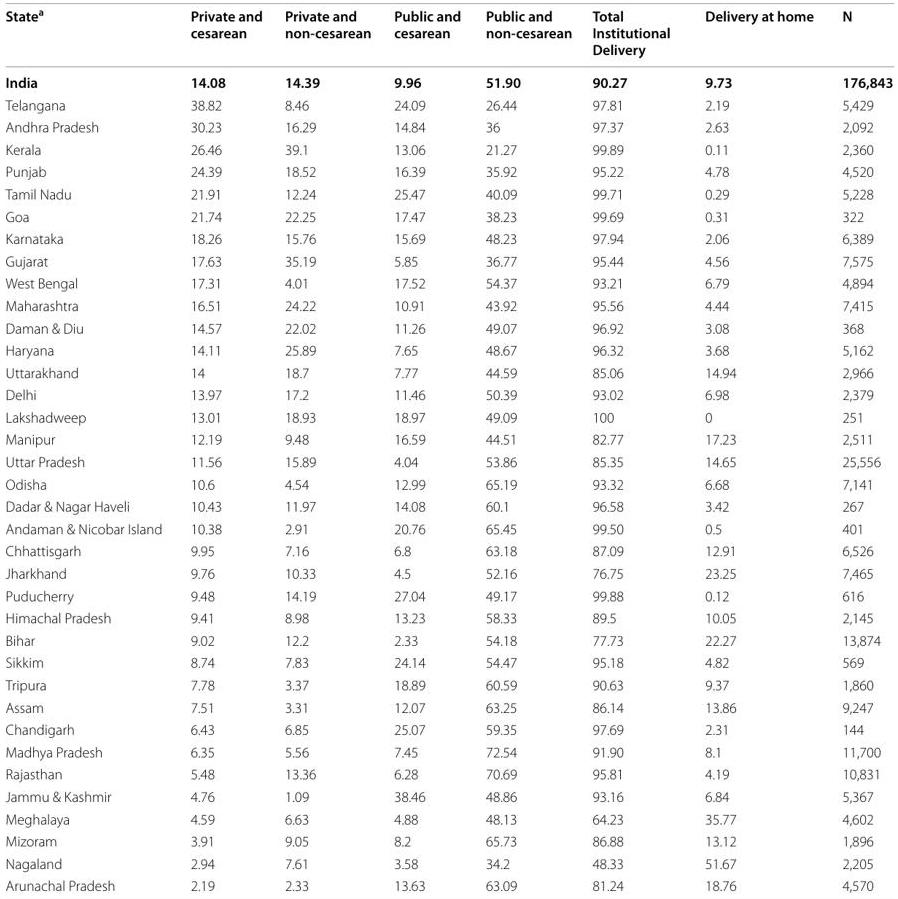table: (4, 4, 892, 894)
table column: (4, 4, 175, 894), (687, 4, 827, 894), (273, 4, 382, 894), (472, 4, 581, 894), (581, 4, 687, 894), (175, 4, 273, 894), (382, 4, 472, 894), (827, 4, 892, 894)
table column header: (4, 4, 892, 65)
table row: (4, 4, 892, 65), (4, 65, 892, 93), (4, 115, 892, 138), (4, 182, 892, 205), (4, 249, 892, 272), (4, 316, 892, 339), (4, 383, 892, 406), (4, 472, 892, 495), (4, 539, 892, 562), (4, 606, 892, 629), (4, 673, 892, 696), (4, 740, 892, 763), (4, 829, 892, 852), (4, 93, 892, 115), (4, 138, 892, 160), (4, 160, 892, 182), (4, 205, 892, 227), (4, 227, 892, 249), (4, 272, 892, 294), (4, 294, 892, 316), (4, 339, 892, 361), (4, 361, 892, 383), (4, 406, 892, 428), (4, 428, 892, 450), (4, 450, 892, 472), (4, 495, 892, 517), (4, 517, 892, 539), (4, 562, 892, 584), (4, 584, 892, 606), (4, 629, 892, 651), (4, 651, 892, 673), (4, 696, 892, 718), (4, 718, 892, 740), (4, 763, 892, 785), (4, 785, 892, 807), (4, 807, 892, 829), (4, 852, 892, 874), (4, 874, 892, 894)
